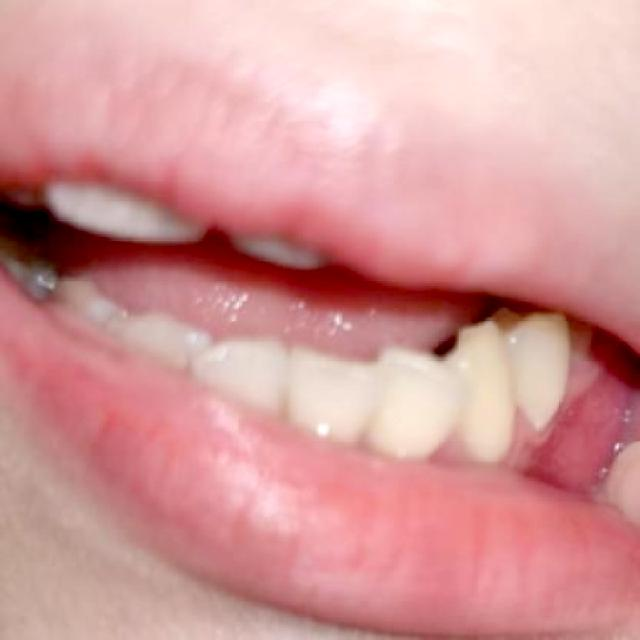Plaque: (507, 400, 567, 451)
